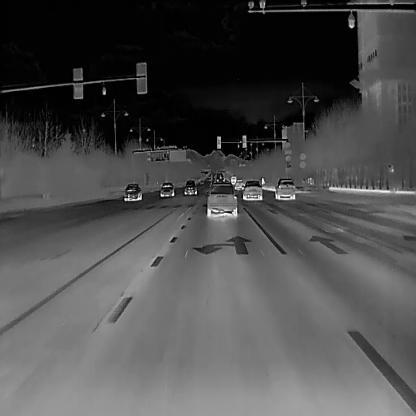car: (207, 181, 235, 215), (242, 178, 263, 201), (275, 177, 295, 198), (123, 180, 140, 201), (160, 180, 173, 196), (183, 178, 196, 194), (231, 175, 236, 183)
